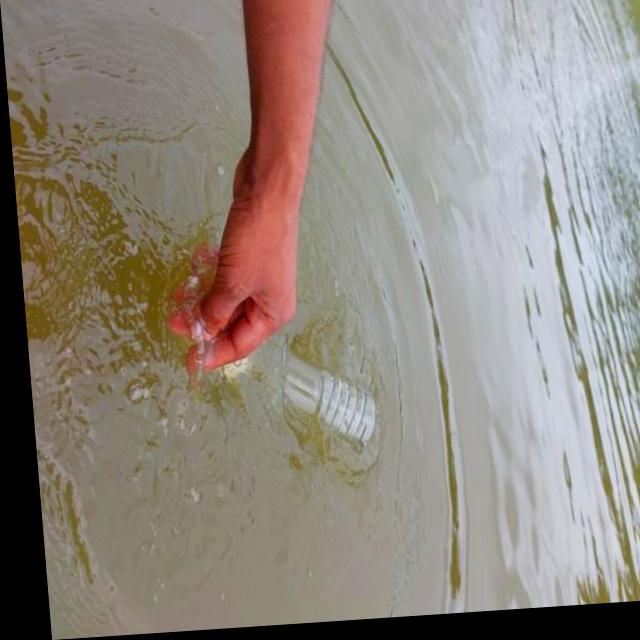waterbottle: (188, 324, 404, 471)
